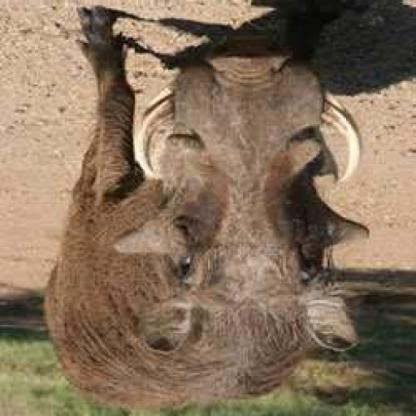boar: (31, 14, 373, 412)
